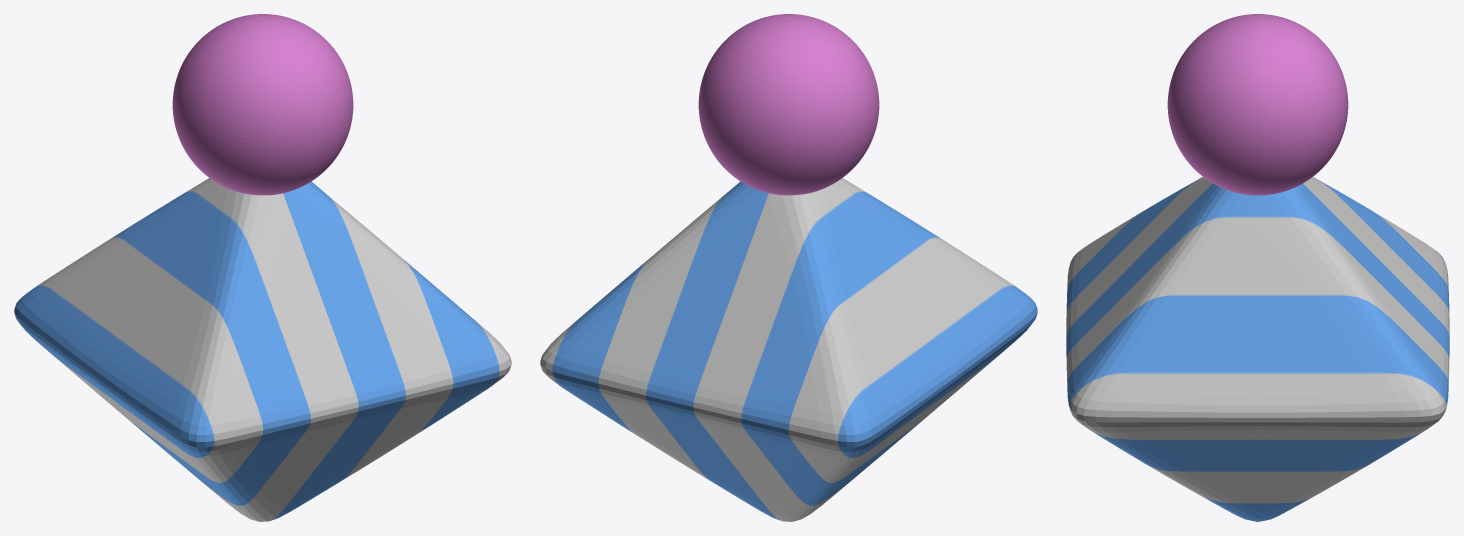
The model's file is BOD4_BMC1_BCC13_BPT1_FRC0_HEA0_HMC10_HCC0_HPT0_ELT0_ERT0_ELL0_ERL0_AP0_AAL0_AAR0_BEK0.fbx.
3 renders of one model, left to right at view 1: azimuth 30°, elevation 25°; view 2: azimuth 150°, elevation 25°; view 3: azimuth 270°, elevation 25°, orthographic.
Parts seen in each view (by area): view 1: Body, Head; view 2: Body, Head; view 3: Body, Head.
Boxes of the visible parts, x1=… form: Body: x1=14, y1=178, x2=511, y2=521; Head: x1=172, y1=14, x2=353, y2=195; Body: x1=540, y1=178, x2=1037, y2=521; Head: x1=698, y1=14, x2=879, y2=195; Body: x1=1066, y1=177, x2=1449, y2=521; Head: x1=1167, y1=14, x2=1348, y2=195.
Size of the model in its own units: 105 by 150 by 105.
Materials: 2 (2 with a texture image).
